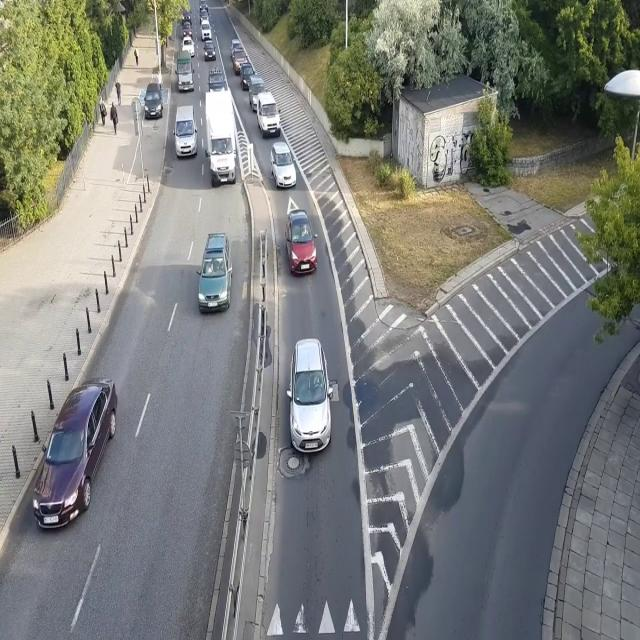car: (31, 378, 119, 534), (285, 339, 334, 454), (196, 231, 234, 315), (285, 208, 318, 274), (271, 143, 297, 188), (144, 83, 163, 120), (240, 63, 256, 89), (232, 50, 248, 74), (181, 36, 195, 58), (203, 41, 216, 61), (230, 38, 241, 56), (182, 22, 193, 39), (199, 10, 210, 22), (198, 0, 208, 11)
truck: (204, 92, 237, 186)
van: (172, 106, 198, 158), (257, 91, 281, 138), (175, 50, 195, 92), (249, 75, 268, 112), (207, 68, 227, 94), (180, 5, 192, 26), (200, 22, 212, 41)
